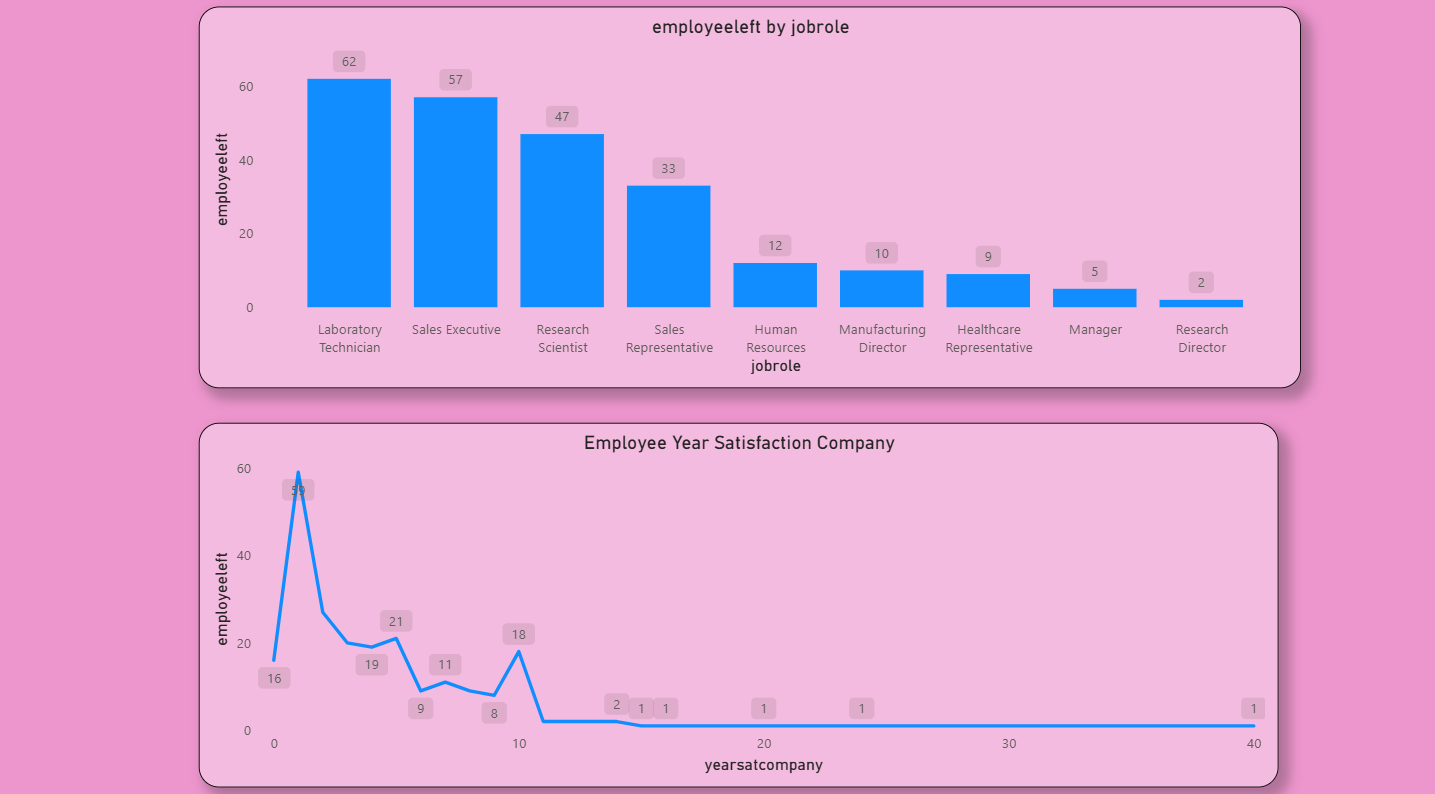

The page's visual inventory and layout, read from the dashboard file:
{"tool":"powerbi","page":{"name":"Job Role & Emp Satisfaction","canvas":[1280,720],"ordinal":1},"visuals":[{"type":"lineChart","title":"Employee Year Satisfaction Company","fields":{"Category":["public hr_attrition.yearsatcompany"],"Y":["public hr_attrition.employeeleft"]},"box":[176.6,381.9,961.6,324.7],"z":0},{"type":"clusteredColumnChart","fields":{"Category":["public hr_attrition.jobrole"],"Y":["public hr_attrition.employeeleft"]},"box":[176.6,11.2,981.5,339.6],"z":1000}]}

Visuals, with their boxes in screenshot pixels (x1, y1, x2, y2), scaled from the page's 1280x720 canvas onto the 1435x794 screenshot:
"Employee Year Satisfaction Company" lineChart: {"left": 198, "top": 421, "right": 1276, "bottom": 779}
clusteredColumnChart - public hr_attrition.jobrole x public hr_attrition.employeeleft: {"left": 198, "top": 12, "right": 1298, "bottom": 387}
